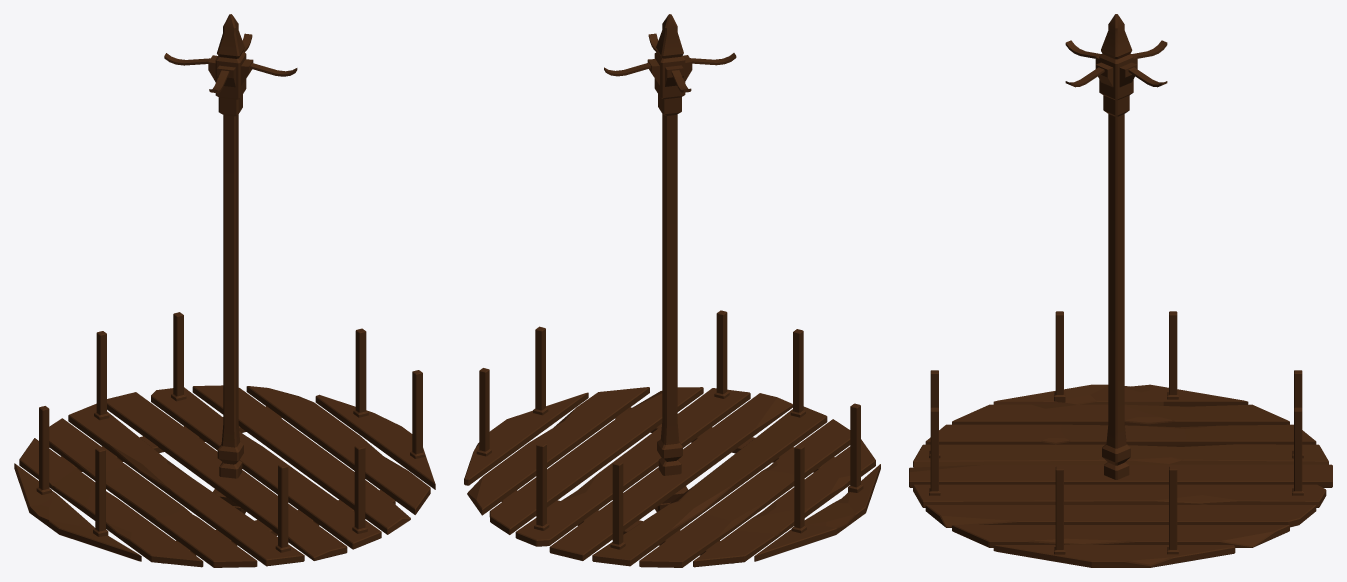
File: Platform-M05C.fbx
3 views of the same model, side by side, from view 1: azimuth 30°, elevation 25°; view 2: azimuth 150°, elevation 25°; view 3: azimuth 270°, elevation 25° (orthographic).
Visible parts, largest first — view 1: Cube.002; view 2: Cube.002; view 3: Cube.002.
Boxes of the visible parts, x1,y1,x2,y2 form: Cube.002: (14,14,435,567); Cube.002: (464,14,880,567); Cube.002: (909,14,1332,567).
Bounding box in the file's own units: 252 × 364 × 255.
